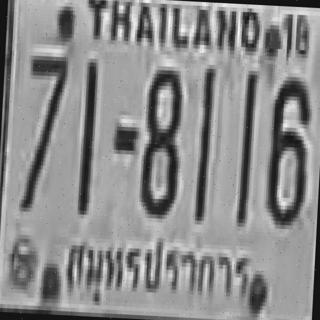N01: (194, 66, 215, 219), (76, 60, 96, 213), (236, 71, 255, 223)
N06: (264, 72, 310, 222)
N07: (20, 52, 68, 210)
N08: (139, 66, 181, 216)
P57: (62, 234, 257, 308)
